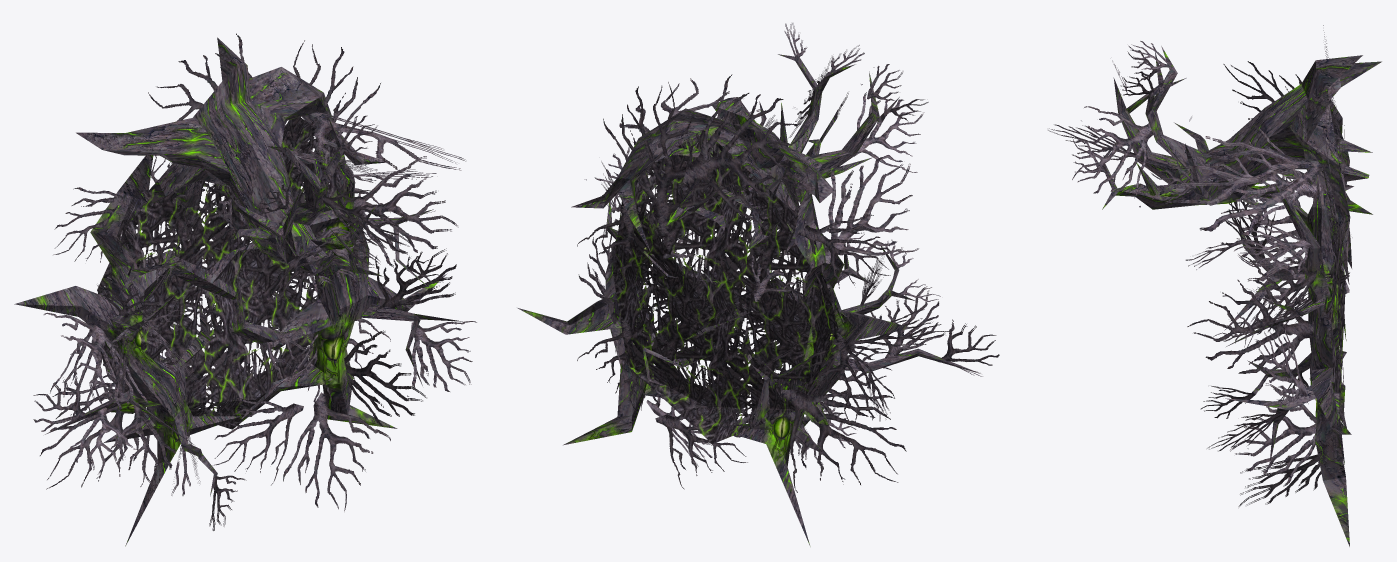
The model's file is beiou_yewai_30_common_chaoxue_01.obj.
The picture shows the model from 3 angles, left to right: view 1: azimuth 30°, elevation 25°; view 2: azimuth 150°, elevation 25°; view 3: azimuth 270°, elevation 25°; orthographic projection. The views are drawn at different scales.
Visible parts, largest first — view 1: beiou_yewai_30_common_chaoxue_01; view 2: beiou_yewai_30_common_chaoxue_01; view 3: beiou_yewai_30_common_chaoxue_01.
Part boxes in pixels (box(x1,y1,x2,y2)): beiou_yewai_30_common_chaoxue_01: box(14, 33, 476, 546); beiou_yewai_30_common_chaoxue_01: box(517, 23, 999, 546); beiou_yewai_30_common_chaoxue_01: box(1048, 25, 1381, 546).
Size of the model in its own units: 1273 by 1289 by 824.
3 materials, 3 textured.
